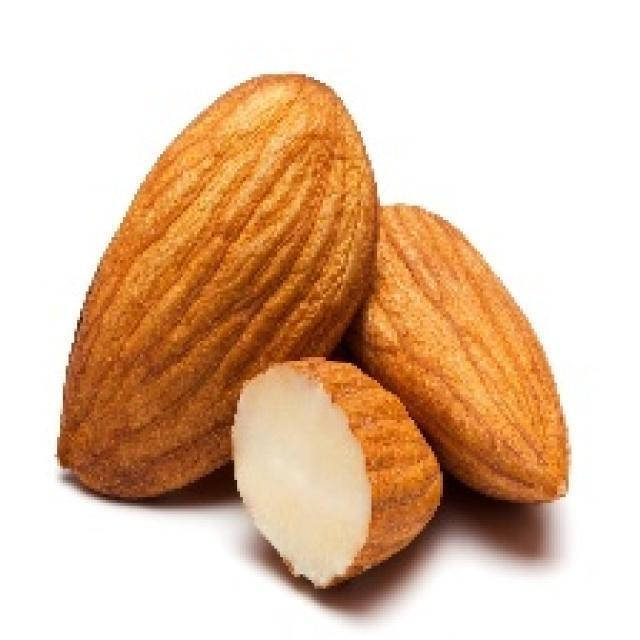almond: (59, 72, 379, 498), (347, 198, 572, 505)
